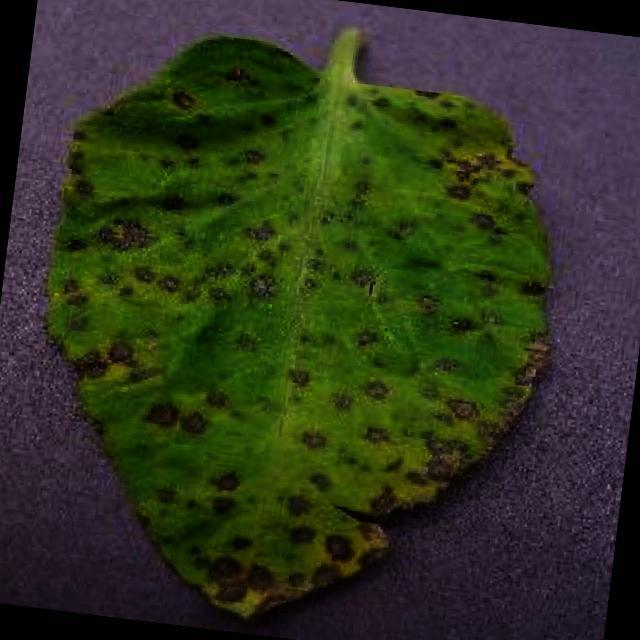Tomato Septoria spot leaf: (9, 18, 577, 640)
